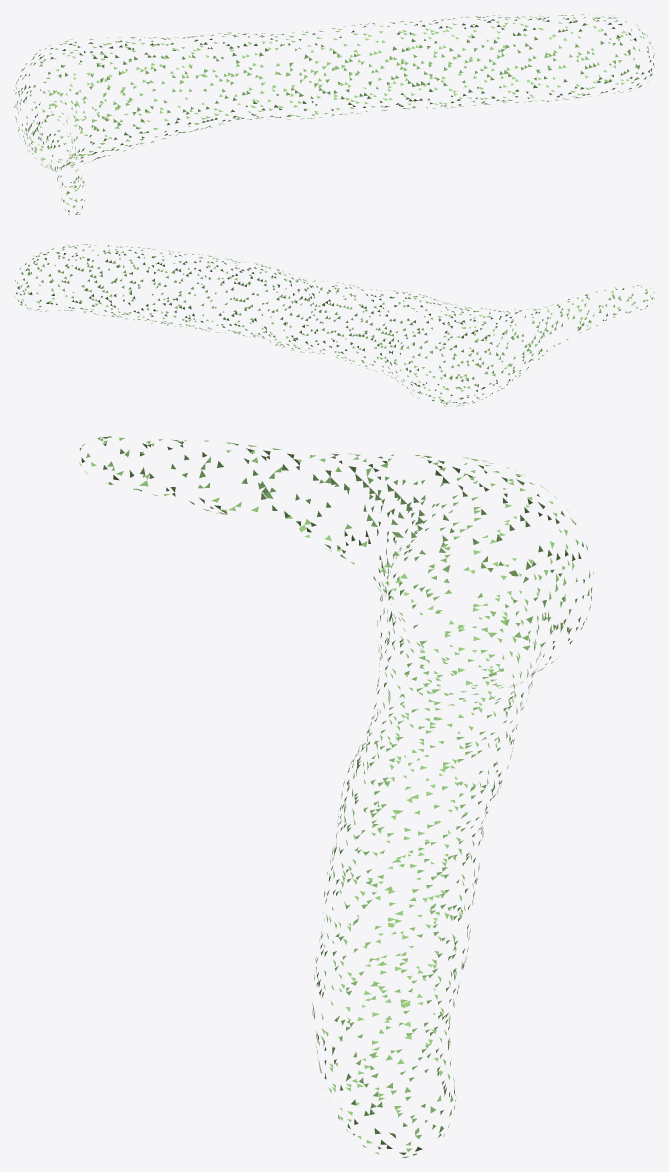
Rendered from morph_014.glb.
The picture shows the model from 3 angles, top to bottom: view 1: azimuth 30°, elevation 25°; view 2: azimuth 150°, elevation 25°; view 3: azimuth 270°, elevation 25°; orthographic projection. The views are drawn at different scales.
Size of the model in its own units: 122 by 25.51 by 49.12.
